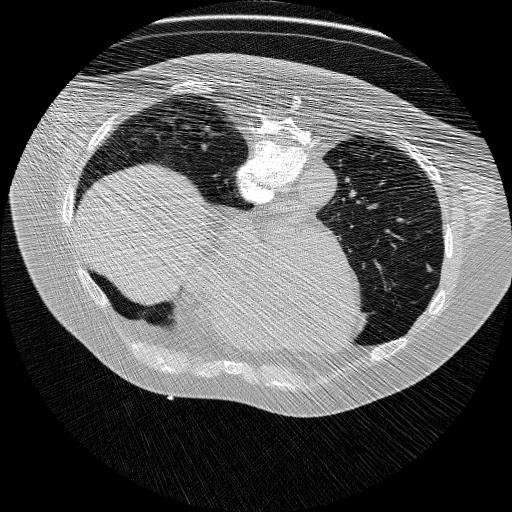nodule: (423, 264, 434, 275)
